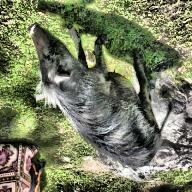boar: (15, 14, 184, 167)
